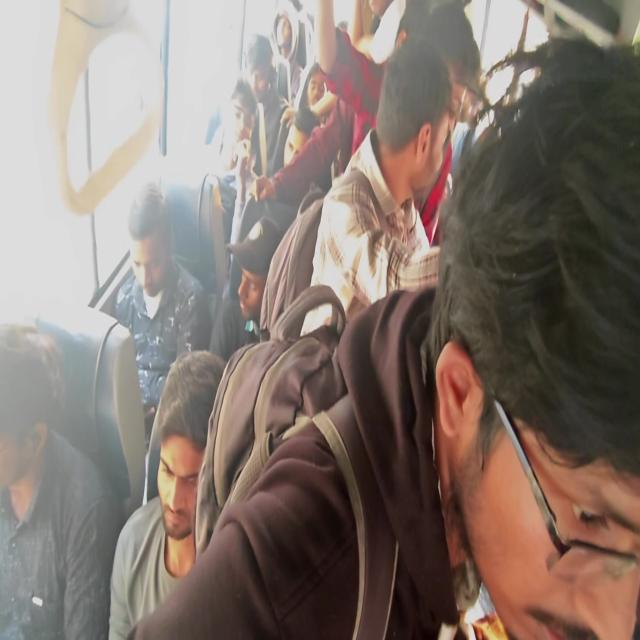person: (474, 100, 640, 473), (0, 342, 117, 603), (130, 366, 233, 610), (235, 222, 307, 397), (127, 171, 179, 346), (275, 0, 340, 122), (373, 73, 433, 191), (282, 116, 338, 195), (430, 0, 466, 113), (222, 90, 268, 171), (326, 8, 366, 82), (302, 64, 342, 135), (466, 53, 494, 120), (246, 38, 275, 92)
